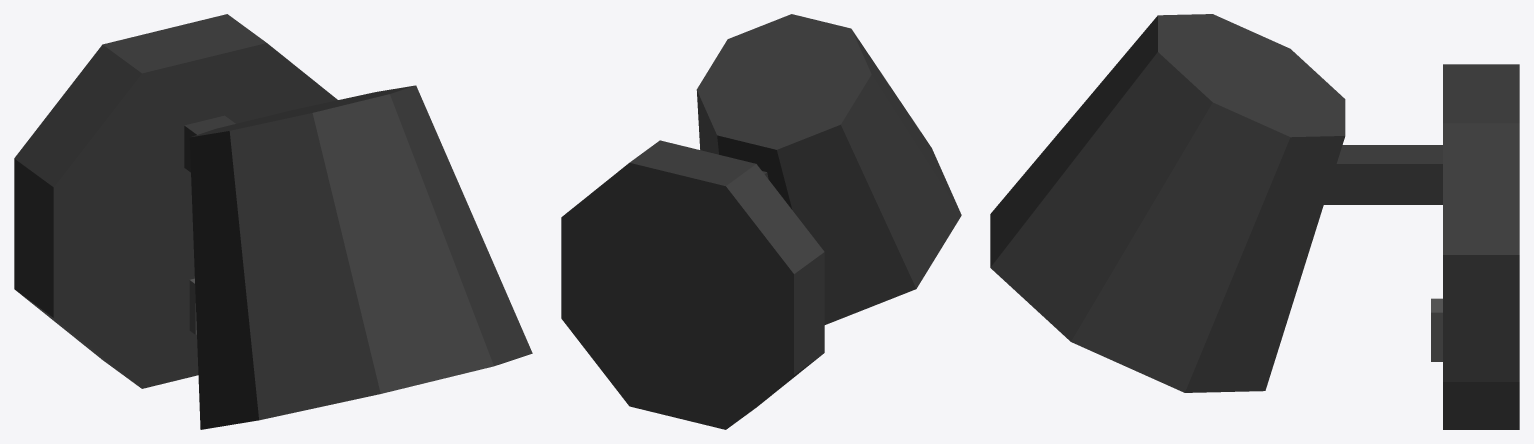
File: Light_09.fbx
The picture shows the model from 3 angles, left to right: view 1: azimuth 30°, elevation 25°; view 2: azimuth 150°, elevation 25°; view 3: azimuth 270°, elevation 25°; orthographic projection. The views are drawn at different scales.
Parts seen in each view (by area): view 1: Light_09; view 2: Light_09; view 3: Light_09.
Part boxes in pixels (<box>): Light_09: <box>14,14,532,429</box>; Light_09: <box>561,14,961,429</box>; Light_09: <box>990,14,1519,429</box>.
Size of the model in its own units: 10.18 by 12.18 by 15.93.
